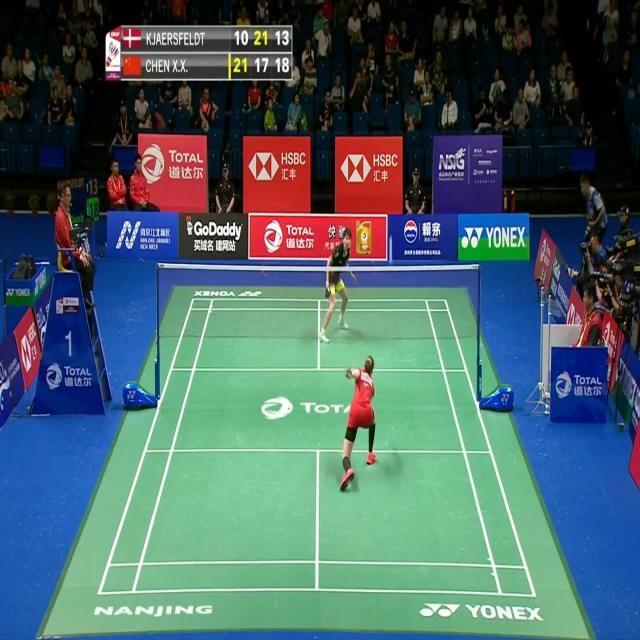Player1: (337, 354, 389, 492)
Player2: (319, 227, 365, 344)
